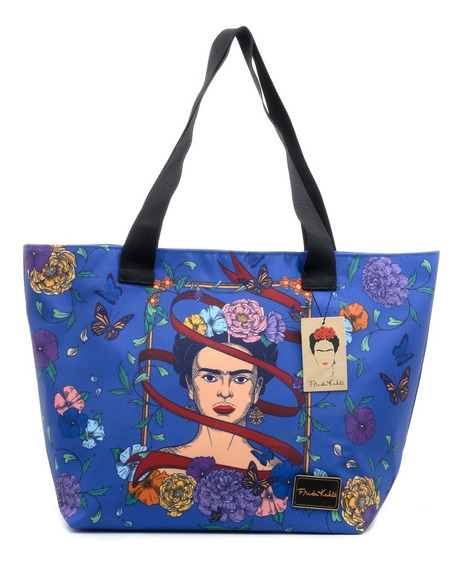cartera: (22, 25, 441, 537)
